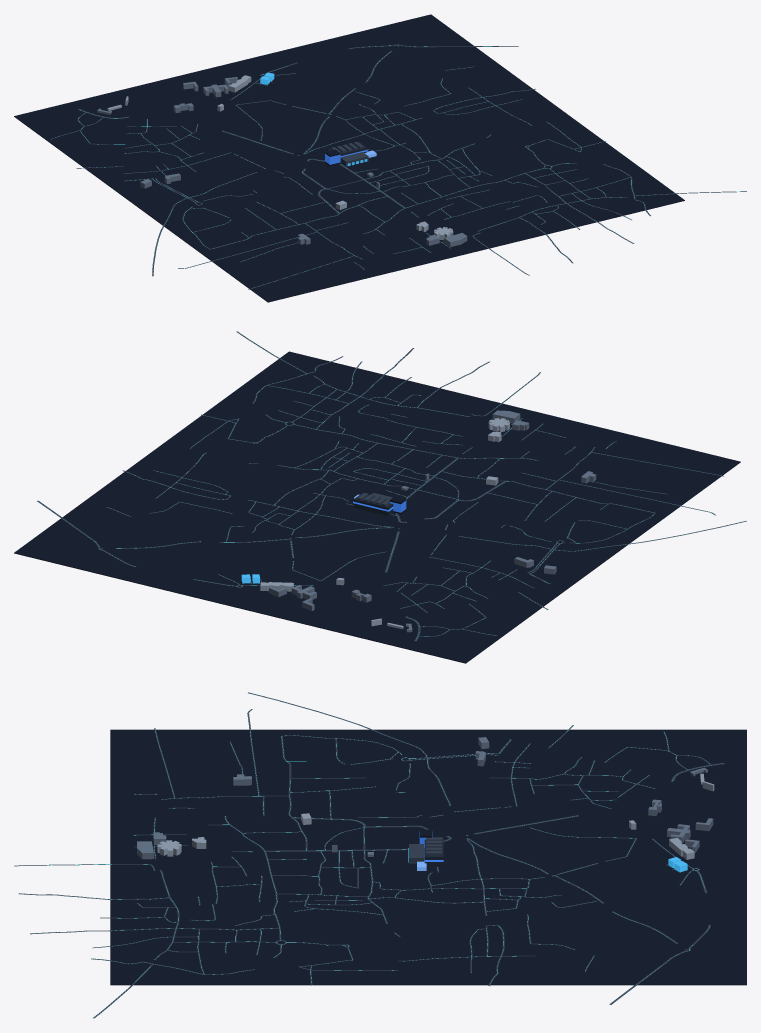
The model's file is facility_pune.glb.
3 renders of one model, top to bottom at view 1: azimuth 30°, elevation 25°; view 2: azimuth 150°, elevation 25°; view 3: azimuth 270°, elevation 25°, orthographic. The views are drawn at different scales.
Parts seen in each view (by area): view 1: GroundSlab; view 2: GroundSlab; view 3: GroundSlab.
Part boxes in pixels (x1,y1,x2,y2): GroundSlab: (14, 14, 684, 302); GroundSlab: (14, 351, 740, 663); GroundSlab: (110, 729, 746, 985).
Bounding box in the file's own units: 11.6 × 0.2366 × 11.02.
